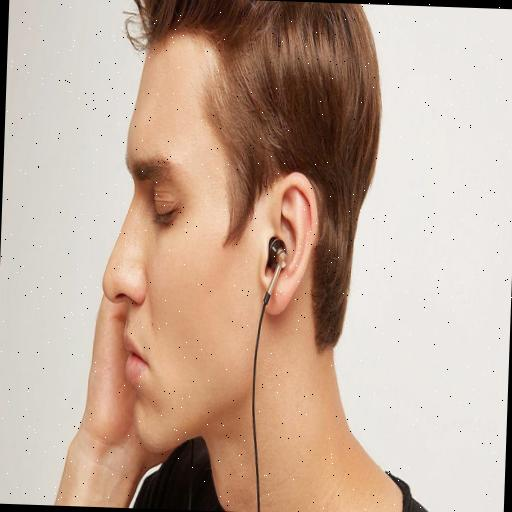earphone: (243, 231, 292, 512)
